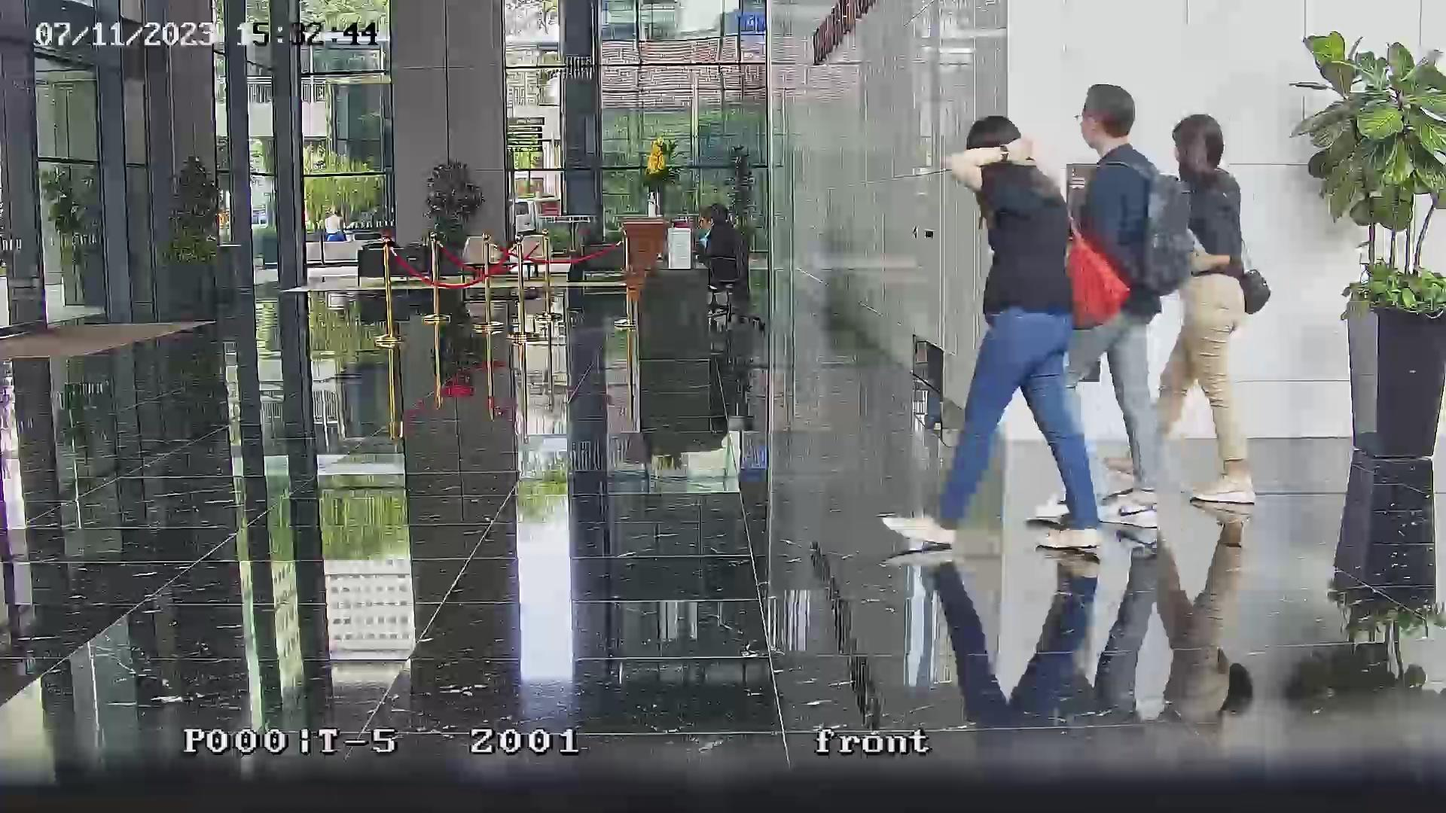person: (895, 107, 1105, 549), (1062, 82, 1184, 525), (1155, 114, 1259, 510), (695, 203, 747, 289), (325, 208, 348, 241)
